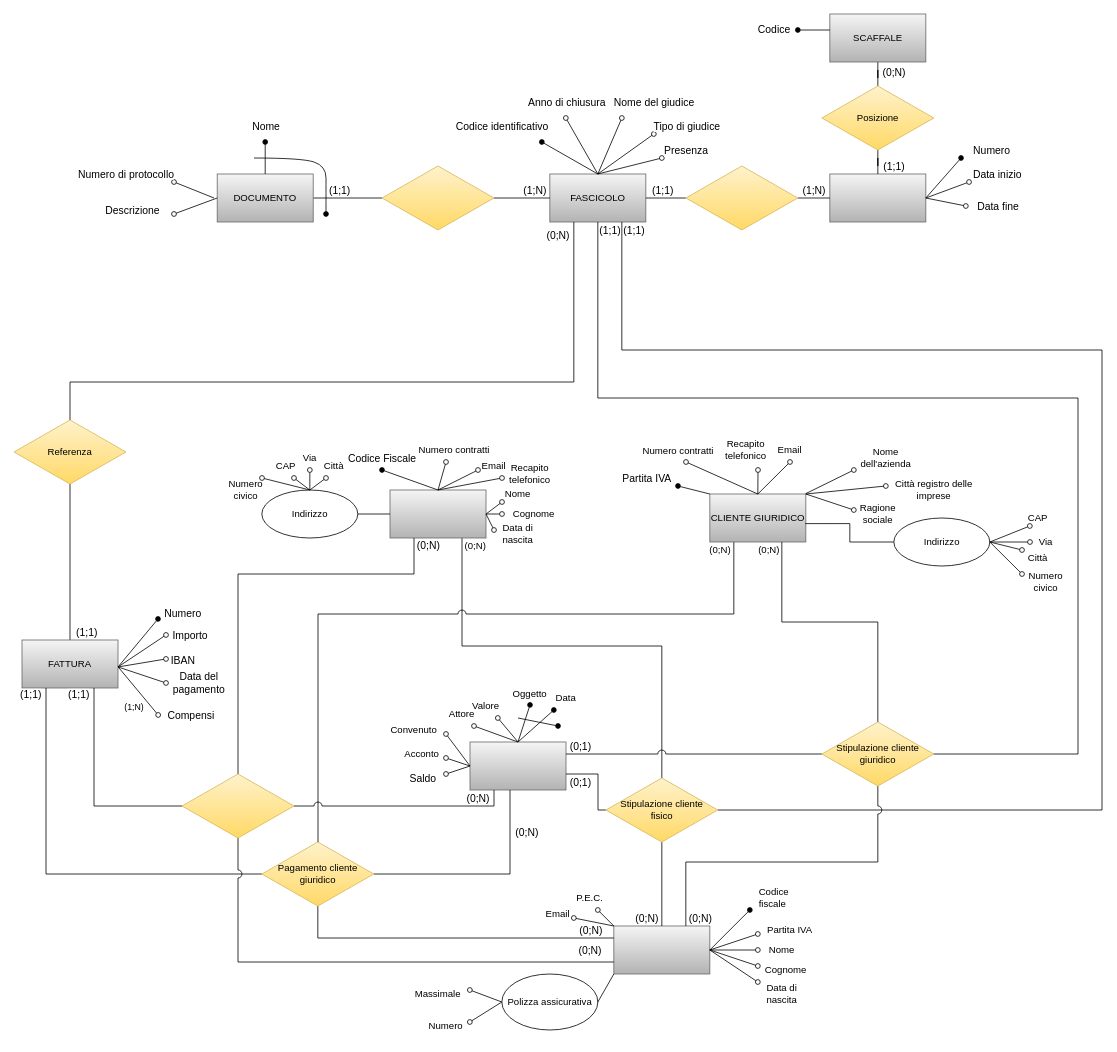
Image size: 1117x1052. Some labels were removed from this diagram. The shapes that lost their labels are listed below. From the top down, each one's box as (x1, y1, x2, y2) in pixels, then its label:
(381, 165, 494, 230): Contenuto
(685, 165, 798, 230): Inserimento
(829, 173, 926, 222): FALDONE
(389, 489, 486, 538): CLIENTE FISICO
(469, 741, 566, 790): CONTRATTO
(181, 773, 294, 838): Pagamento cliente fisico
(613, 925, 710, 974): AVVOCATO
